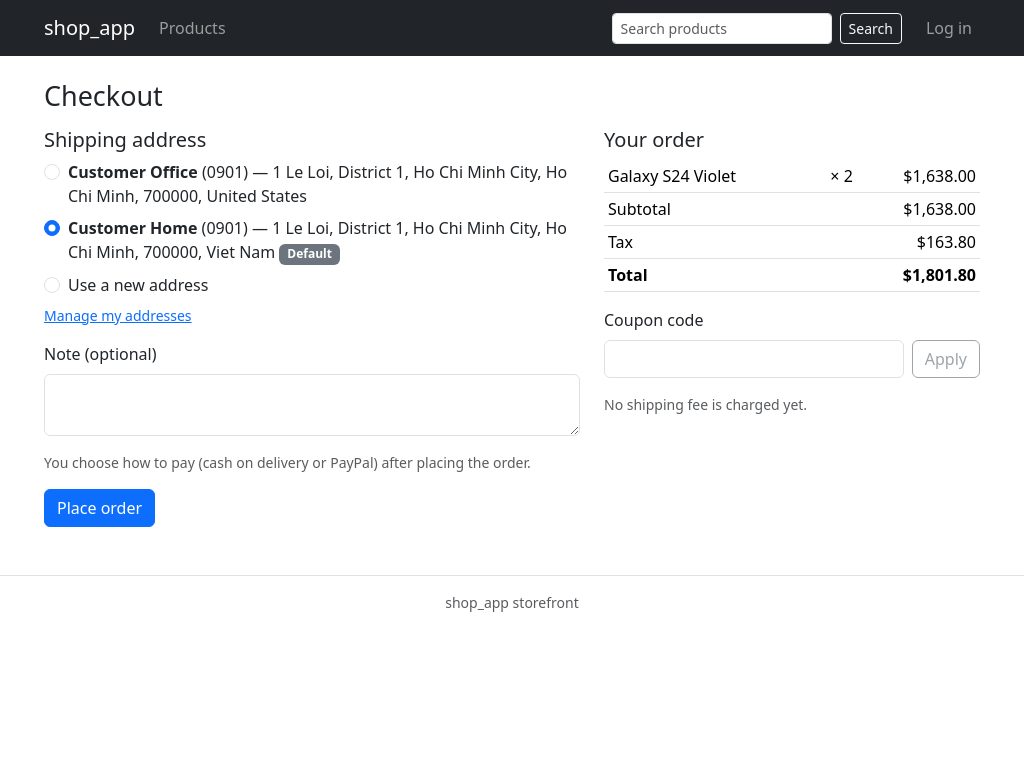
Test: Checkout page › an expired session while placing the order shows the login link
This screenshot has width=1024, height=768.
What coordinates should you click on to do the following:
click the button "Place order"
I would click on:
 (100, 508)
Its box is [44,488,155,526].
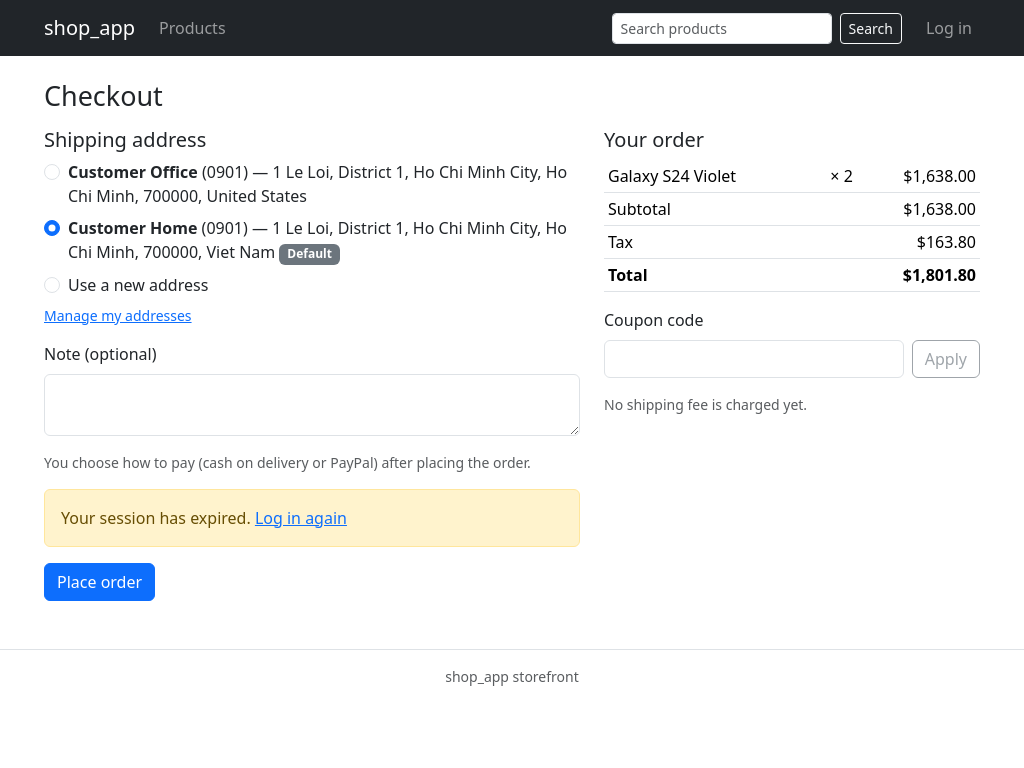
Now the link "Log in again" is shown, box [255,506,347,528]
